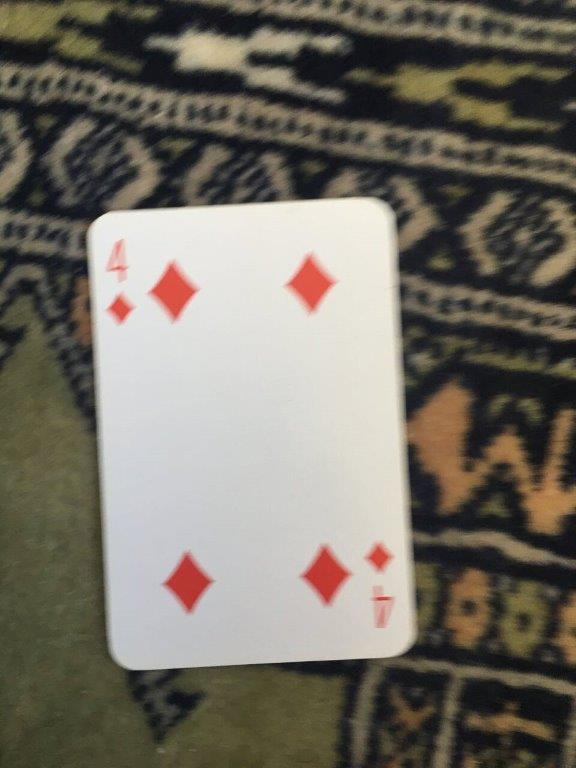4D: (82, 196, 420, 676)
